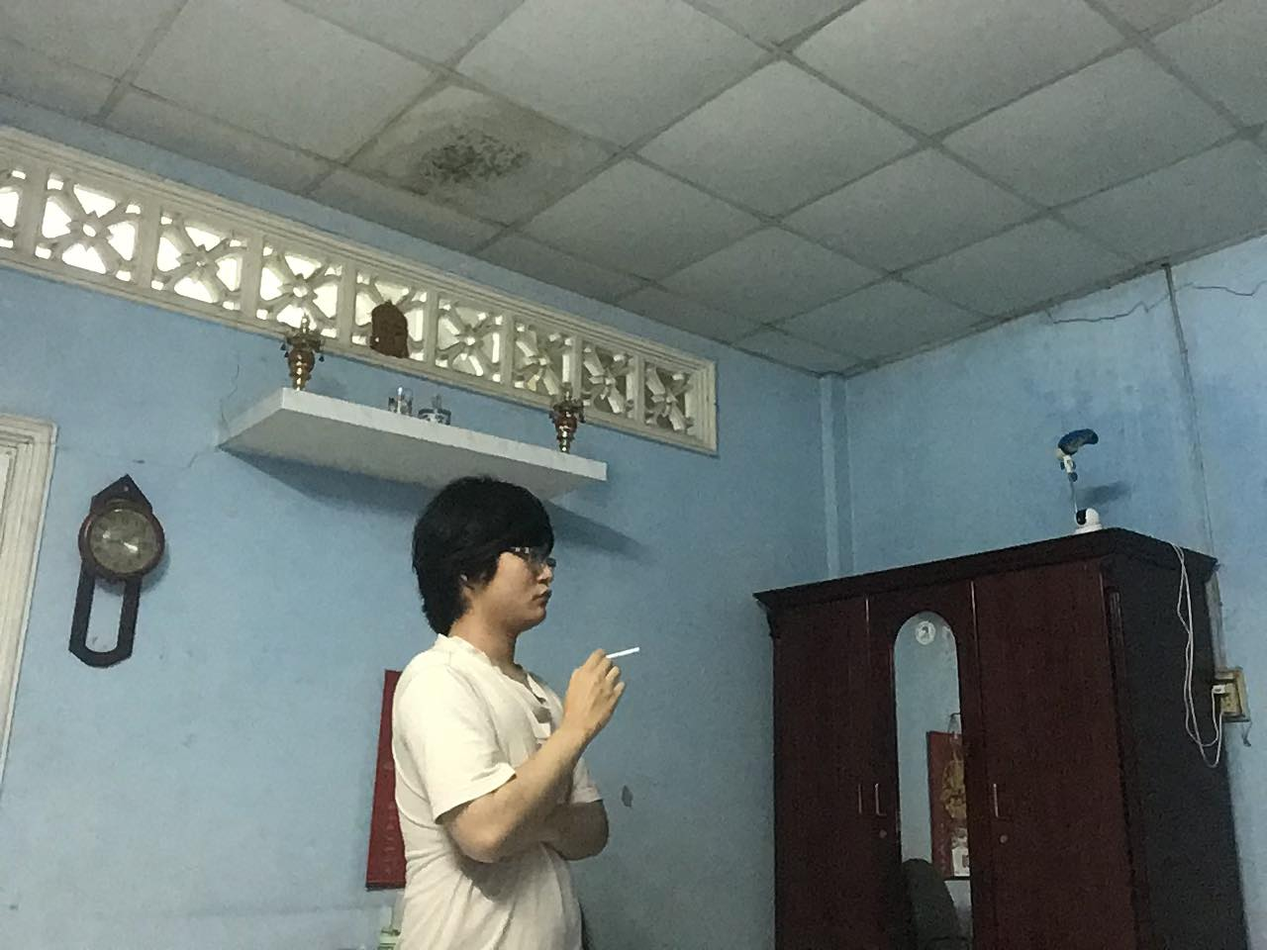cigarette: (607, 642, 644, 662)
person: (372, 478, 631, 949)
